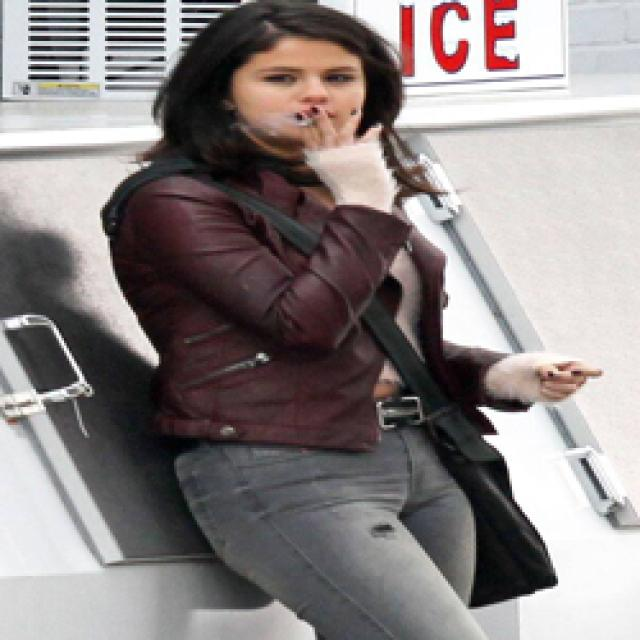Smooking: (289, 107, 328, 134)
